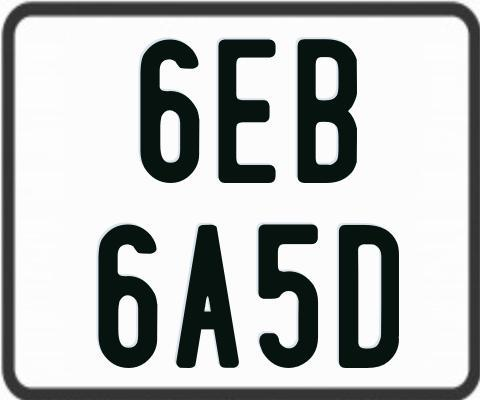5: (258, 223, 318, 372)
6: (137, 38, 202, 184), (97, 223, 159, 372)
A: (174, 222, 241, 367)
B: (295, 38, 358, 182)
D: (339, 224, 405, 373)
E: (218, 38, 282, 188)
